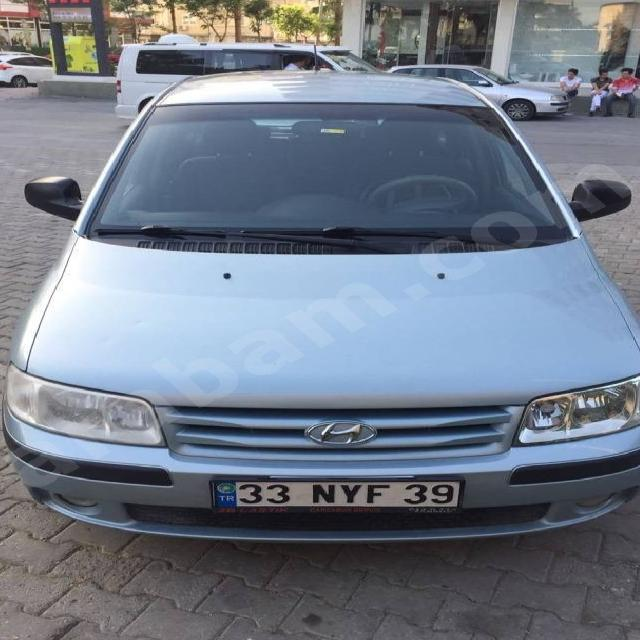license_plate: (209, 480, 462, 508)
